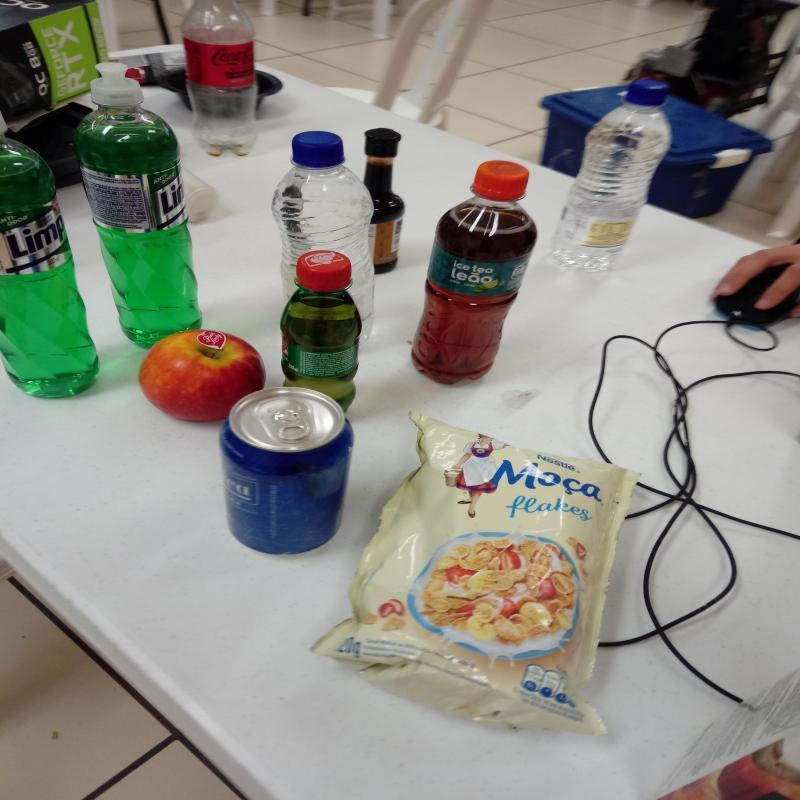Apple: (141, 325, 268, 426)
Cleaner: (75, 64, 206, 350), (1, 99, 103, 400)
CornFlakes: (307, 412, 640, 739)
EnglishSauce: (364, 130, 406, 272)
Guarana: (282, 251, 364, 408)
IceTea: (412, 160, 541, 385)
Tonic: (216, 382, 354, 555)
Water: (548, 74, 676, 271), (275, 134, 379, 344)
